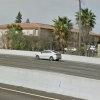Car: (30, 45, 65, 63)
